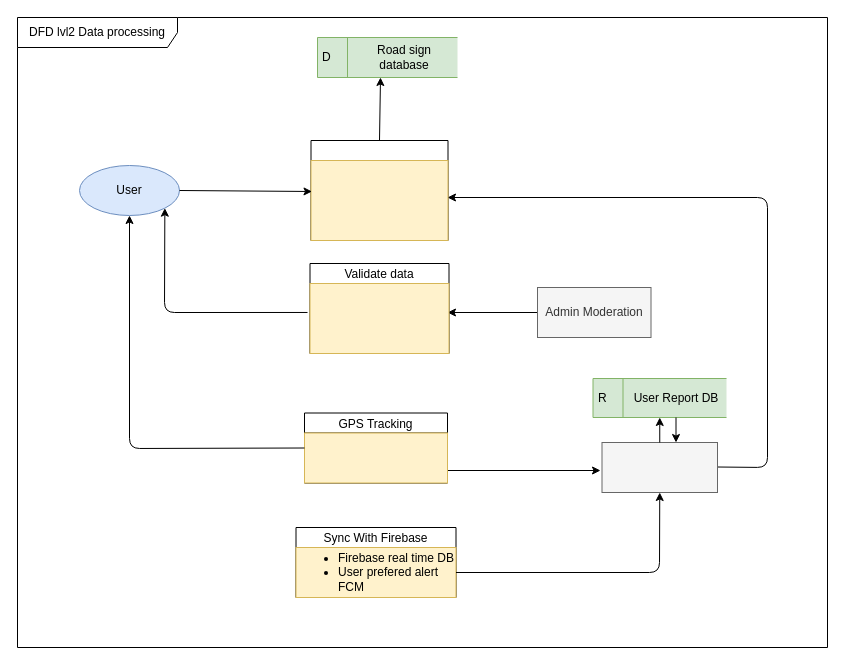
Some shapes in this 845 by 665 pixel diagram are drawn without their labels. Here are the shapes that lost their labels. From the top down, the box of each, then its label:
(310, 140, 448, 240): Fetch Real-time update
(310, 160, 448, 240): road sign/harzard data firebase message notification
(309, 282, 449, 354): Spam Detection GPS validation basic verification
(304, 432, 448, 483): Geofencing alert Real time localion monitoring
(601, 442, 718, 492): External System
